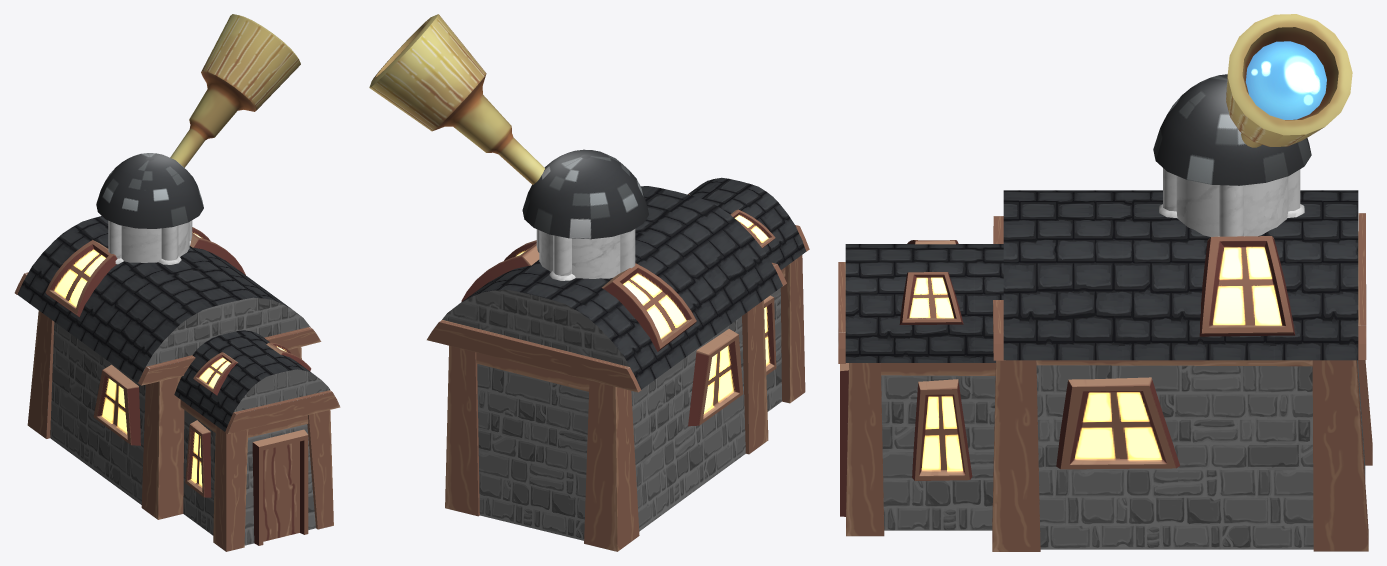
The model's file is observatorium.glb.
The picture shows the model from 3 angles, left to right: view 1: azimuth 30°, elevation 25°; view 2: azimuth 150°, elevation 25°; view 3: azimuth 270°, elevation 25°; orthographic projection. The views are drawn at different scales.
Visible parts, largest first — view 1: Observatory; view 2: Observatory; view 3: Observatory.
Boxes of the visible parts, box(x1,y1,x2,y2) form: Observatory: box(14, 14, 340, 551); Observatory: box(369, 14, 809, 551); Observatory: box(838, 14, 1372, 551).
Bounding box in the file's own units: 584 × 859 × 736.
Materials: 1 (1 with a texture image).
